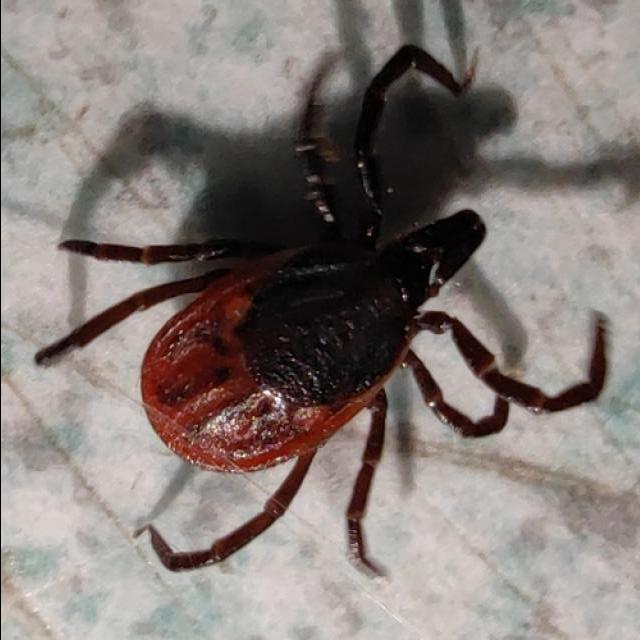Ixodes Ricinus-F: (32, 45, 608, 584)
